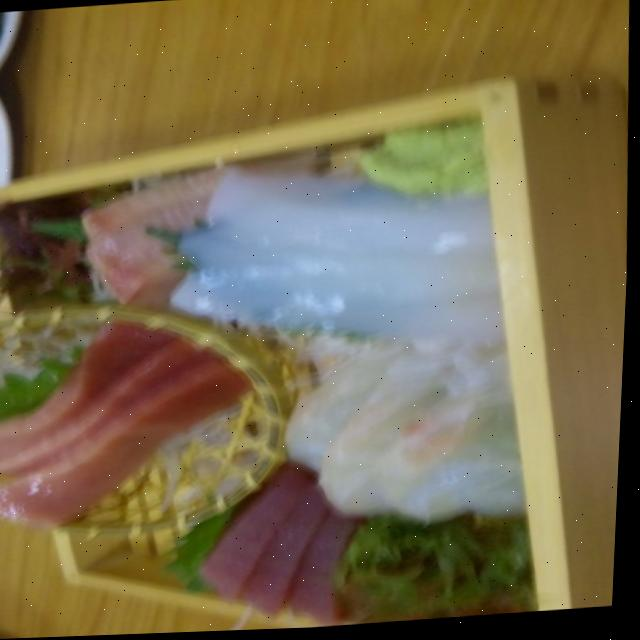刺身生食: (0, 91, 595, 640)
